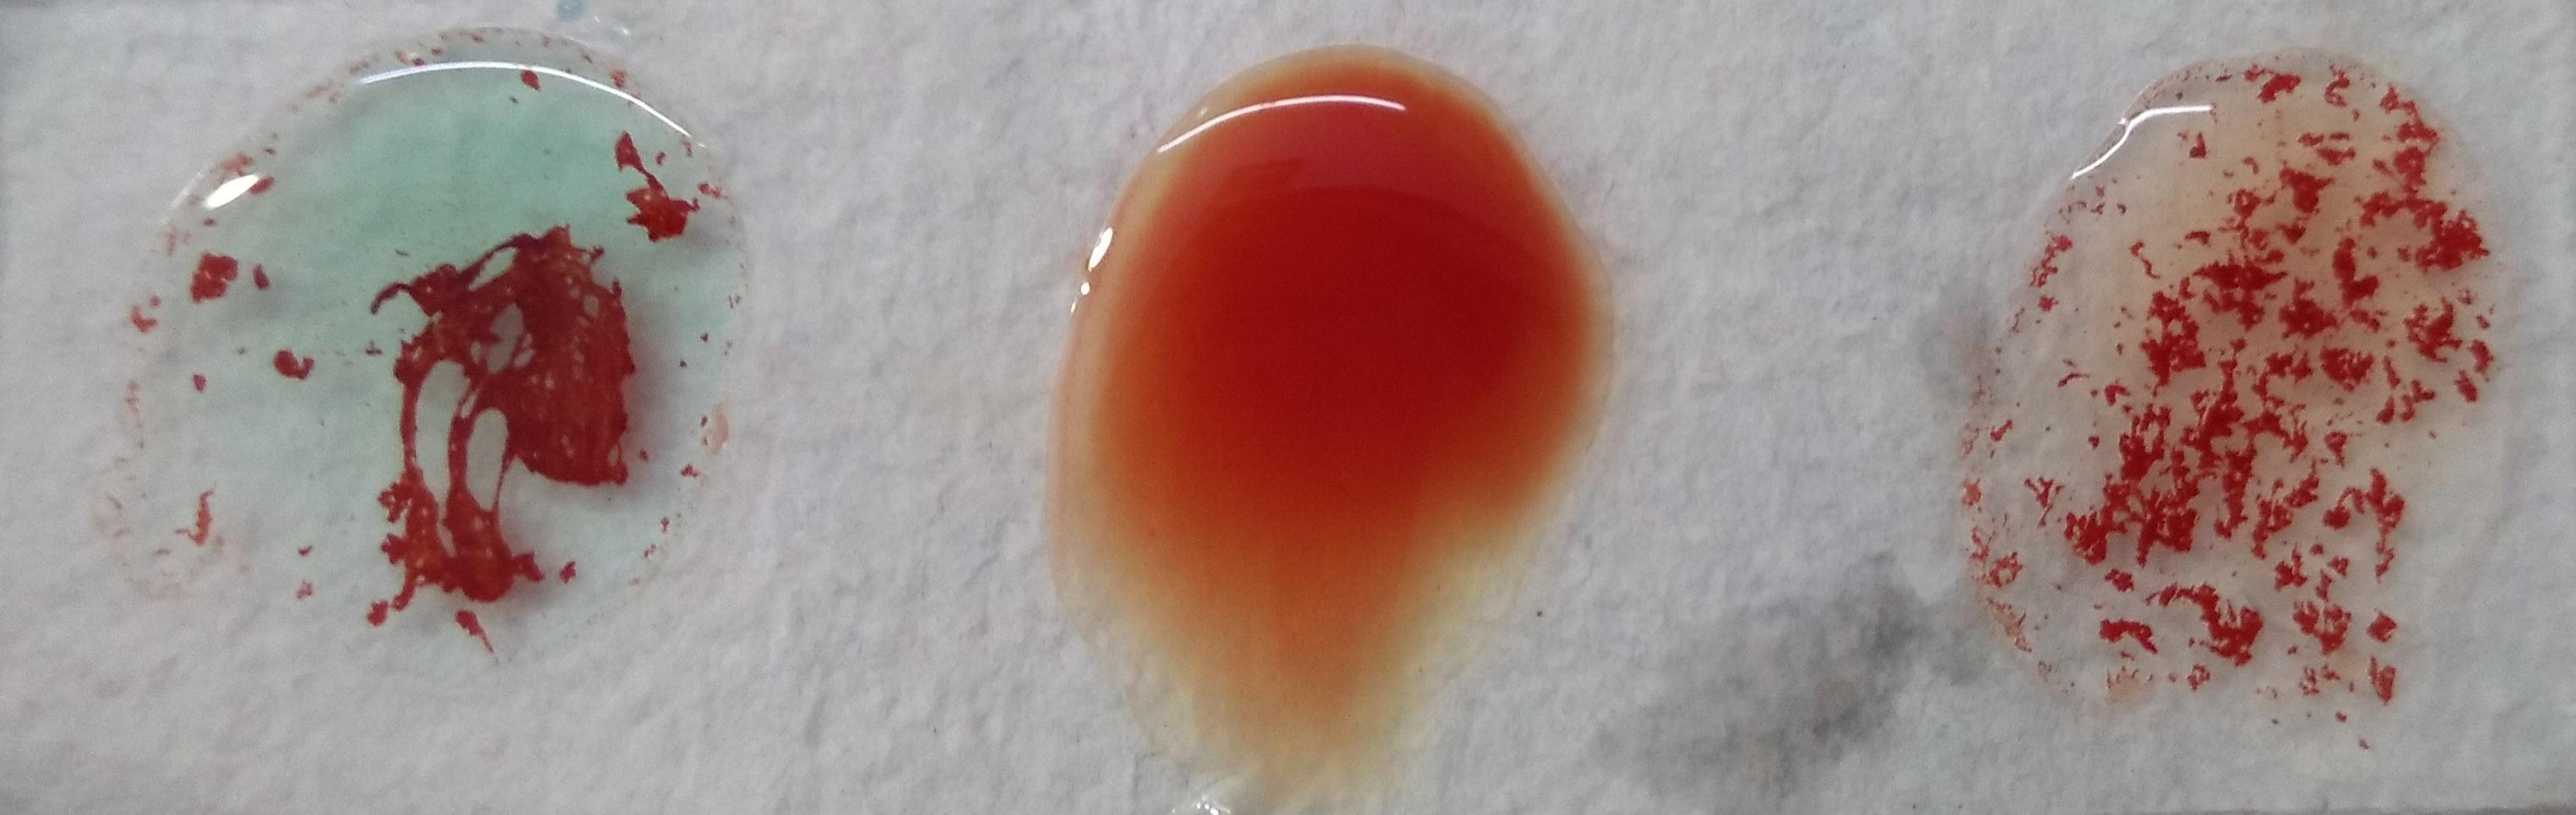A: (158, 51, 751, 667)
D: (1960, 39, 2495, 713)
